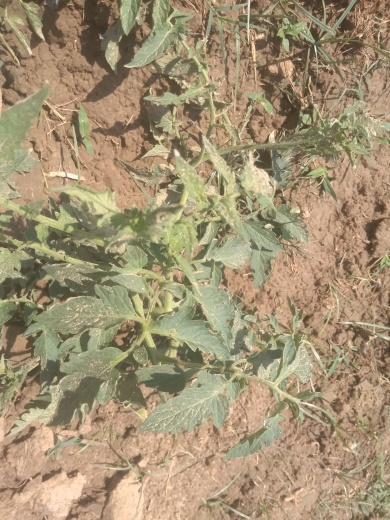tomato diseased leaf: (143, 375, 229, 439), (170, 155, 234, 220), (235, 151, 274, 207)
tomato plant: (4, 199, 268, 429)
